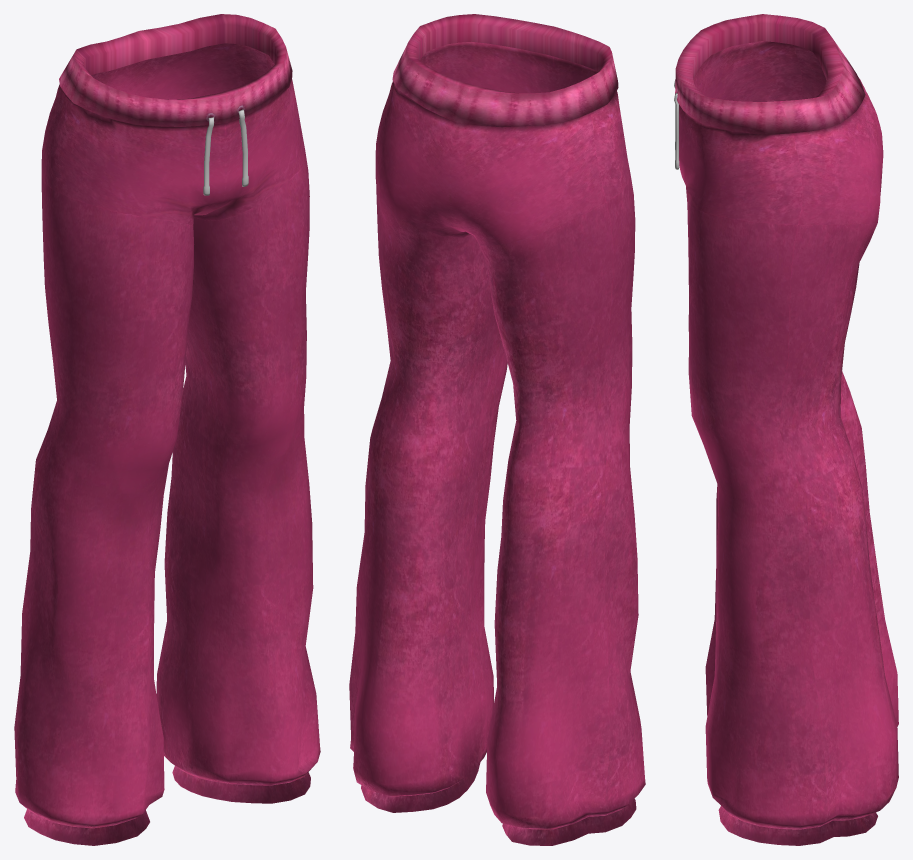
3 renders of one model, left to right at view 1: azimuth 30°, elevation 25°; view 2: azimuth 150°, elevation 25°; view 3: azimuth 270°, elevation 25°, orthographic. The views are drawn at different scales.
Visible parts, largest first — view 1: Circle_0, Cylinder_1; view 2: Circle_0; view 3: Circle_0.
Boxes of the visible parts, x1,y1,x2,y2 form: Circle_0: (14, 14, 320, 845); Cylinder_1: (203, 109, 248, 195); Circle_0: (349, 14, 645, 845); Circle_0: (675, 14, 898, 845).
Size of the model in its own units: 2.25 by 5.78 by 1.61.
Materials: 2 (1 with a texture image).
